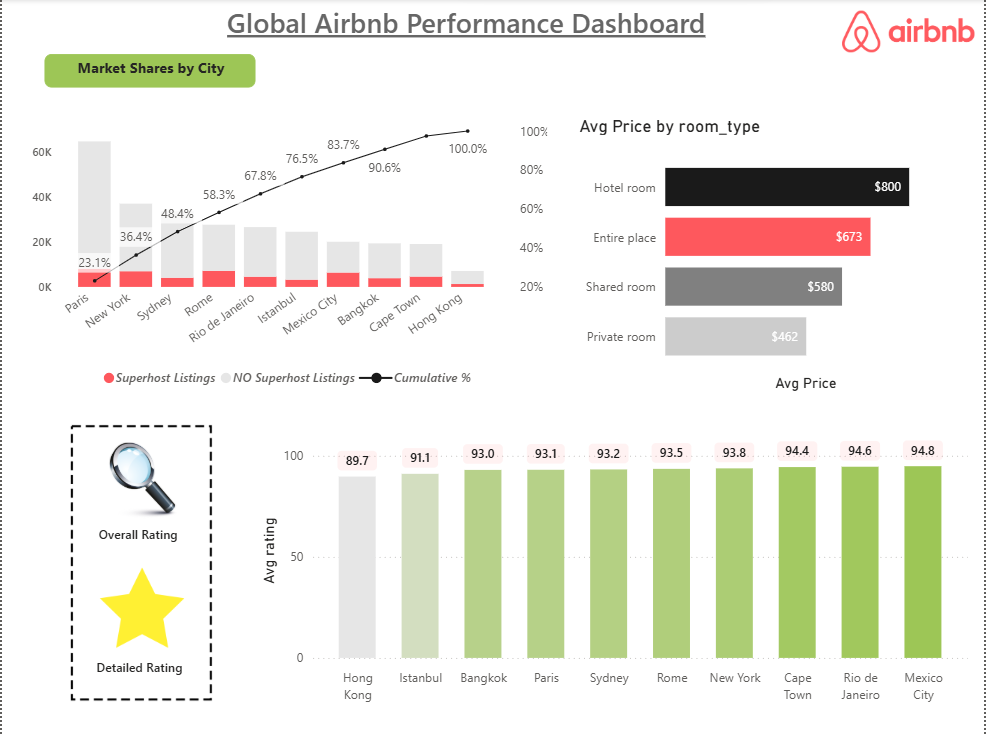

What the dashboard file says about the page in this screenshot:
{"tool":"powerbi","page":{"name":"Ratings","canvas":[960,720],"ordinal":1},"visuals":[{"type":"textbox","box":[215.3,0,529.5,62.4],"z":0},{"type":"image","box":[79.5,434.1,114.9,74.6],"z":0,"group":"g1"},{"type":"image","box":[79.4,551.5,114.9,88],"z":0,"group":"g2"},{"type":"image","box":[821.7,9.8,129.6,44],"z":1000},{"type":"textbox","box":[74.6,508.7,117.4,42.8],"z":1000,"group":"g1"},{"type":"textbox","box":[77,639.5,114.9,39.1],"z":1000,"group":"g2"},{"type":"textbox","box":[41.6,53.8,206.7,33],"z":2000},{"type":"lineStackedColumnComboChart","fields":{"Y":["Listings.Superhost Listings","Listings.NO Superhost Listings"],"Category":["Listings.city"],"Y2":["Listings.Cumulative %"]},"box":[24.5,113.7,513.6,275.1],"z":3000},{"type":"barChart","fields":{"Category":["Listings.room_type"],"Y":["Listings.Avg Price"]},"box":[560.1,113.7,369.3,275.1],"z":4000},{"type":"columnChart","fields":{"Category":["Listings.city"],"Y":["Listings.Avg rating"]},"box":[248.2,420.7,701.9,275.1],"z":5000},{"type":"image","box":[24.5,407.2,223.8,288.6],"z":6000},{"type":"group","id":"g1","title":"Group 1","box":[74.6,434.1,119.8,117.4],"z":8000},{"type":"group","id":"g2","title":"Group 2","box":[77,551.5,117.4,127.2],"z":9000}]}

Visuals, with their boxes in screenshot pixels (x1, y1, x2, y2), scaled from the page's 960x720 canvas onto the 986x735 screenshot:
textbox: bbox=(221, 0, 765, 64)
image: bbox=(82, 443, 200, 519)
image: bbox=(82, 563, 200, 653)
image: bbox=(844, 10, 977, 55)
textbox: bbox=(77, 519, 197, 563)
textbox: bbox=(79, 653, 197, 693)
textbox: bbox=(43, 55, 255, 89)
lineStackedColumnComboChart - Listings.Superhost Listings x Listings.NO Superhost Listings: bbox=(25, 116, 553, 397)
barChart - Listings.room_type x Listings.Avg Price: bbox=(575, 116, 955, 397)
columnChart - Listings.city x Listings.Avg rating: bbox=(255, 429, 976, 710)
image: bbox=(25, 416, 255, 710)
"Group 1" group: bbox=(77, 443, 200, 563)
"Group 2" group: bbox=(79, 563, 200, 693)
